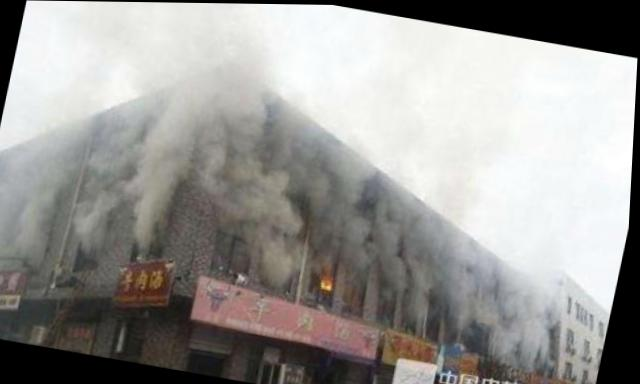fire: (322, 267, 337, 286)
